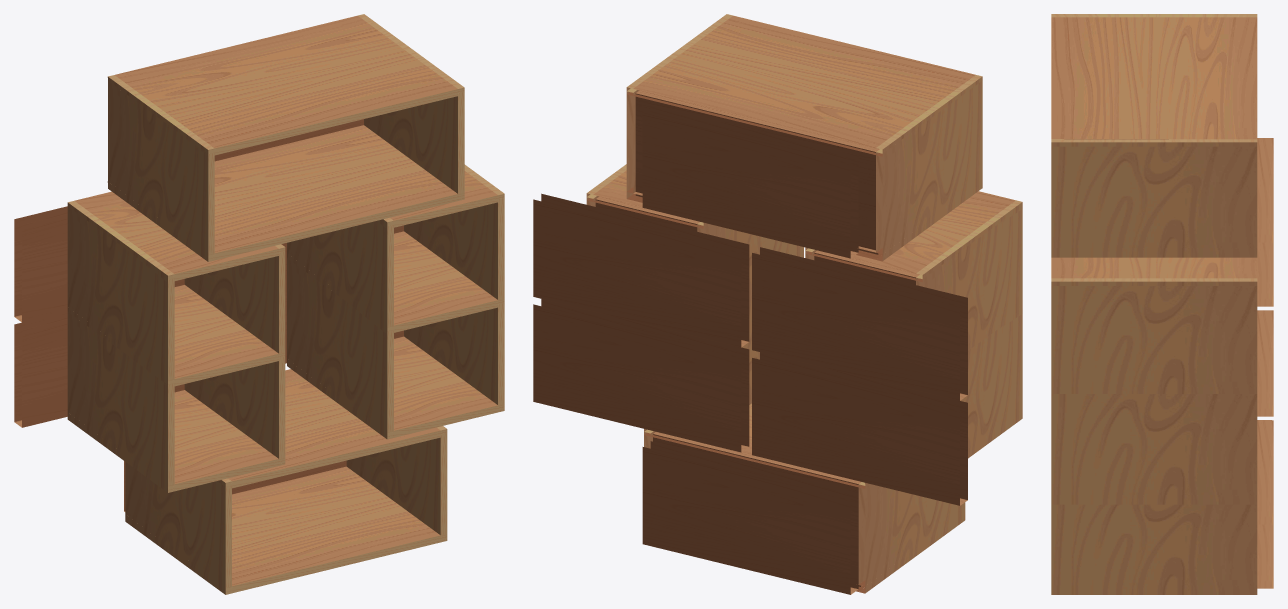
Rendered from layout_circle_shape_8c.fbx.
The picture shows the model from 3 angles, left to right: view 1: azimuth 30°, elevation 25°; view 2: azimuth 150°, elevation 25°; view 3: azimuth 270°, elevation 25°; orthographic projection. The views are drawn at different scales.
Parts seen in each view (by area): view 1: Shelf-TM-00 5, Shelf-BM-00 5, Shelf-BM-00 2, Shelf-CL-01 3, Shelf-CL-01 4, Shelf-CL-01 5, Shelf-CL-01, Shelf-CL-01 2, Shelf-TM-00 2, Shelf-CL-01 1, Shelf-BM-00 3, Shelf-BM-00 (+22 smaller); view 2: Shelf-TM-00 5, Shelf-Back-00 (1) 2, Shelf-Back-00 (1) 5, Shelf-Back-00 (1) 1, Shelf-Back-00 (1), Shelf-Back-00 (1) 4, Shelf-Back-00 (1) 3, Shelf-CL-01 5, Shelf-CL-01 4, Shelf-CL-01 2, Shelf-CL-01 3, Shelf-Back-00 5 (+13 smaller); view 3: Shelf-TM-00 5, Shelf-CR-01 5, Shelf-CR-01, Shelf-CR-01 1, Shelf-CR-01 2, Shelf-TM-00 1, Shelf-Back-00 (1), Shelf-Back-00 (1) 1, Shelf-Back-00 (1) 5, Shelf-CR-00, Shelf-CR-00 (1) 1, Shelf-CR-00 5 (+7 smaller).
Boxes of the visible parts, x1,y1,x2,y2 form: Shelf-TM-00 5: (115,15,457,155); Shelf-BM-00 5: (214,125,457,260); Shelf-BM-00 2: (232,466,440,593); Shelf-CL-01 3: (67,312,174,485); Shelf-CL-01 4: (67,207,174,380); Shelf-CL-01 5: (108,81,214,254); Shelf-CL-01: (287,258,393,432); Shelf-CL-01 2: (125,462,231,587); Shelf-TM-00 2: (228,369,440,488); Shelf-CL-01 1: (287,221,393,326); Shelf-BM-00 3: (174,390,278,491); Shelf-BM-00: (394,336,497,437); Shelf-TM-00 5: (633,15,975,154); Shelf-Back-00 (1) 2: (642,441,858,594); Shelf-Back-00 (1) 5: (642,105,858,258); Shelf-Back-00 (1) 1: (533,193,749,347); Shelf-Back-00 (1): (533,299,749,452); Shelf-Back-00 (1) 4: (752,247,967,400); Shelf-Back-00 (1) 3: (752,352,967,505); Shelf-CL-01 5: (876,81,982,254); Shelf-CL-01 4: (916,209,1022,346); Shelf-CL-01 2: (858,482,965,586); Shelf-CL-01 3: (960,314,1022,451); Shelf-Back-00 5: (635,90,879,254); Shelf-TM-00 5: (1051,17,1257,139); Shelf-CR-01 5: (1051,146,1257,250); Shelf-CR-01: (1051,394,1257,497); Shelf-CR-01 1: (1051,286,1257,389); Shelf-CR-01 2: (1051,504,1257,587); Shelf-TM-00 1: (1051,257,1257,278); Shelf-Back-00 (1): (1257,420,1273,524); Shelf-Back-00 (1) 1: (1257,312,1273,416); Shelf-Back-00 (1) 5: (1257,138,1273,242); Shelf-CR-00: (1051,497,1257,504); Shelf-CR-00 (1) 1: (1051,278,1257,285); Shelf-CR-00 5: (1051,250,1257,257).
Bounding box in the file's own units: 197 × 198 × 86.3.
